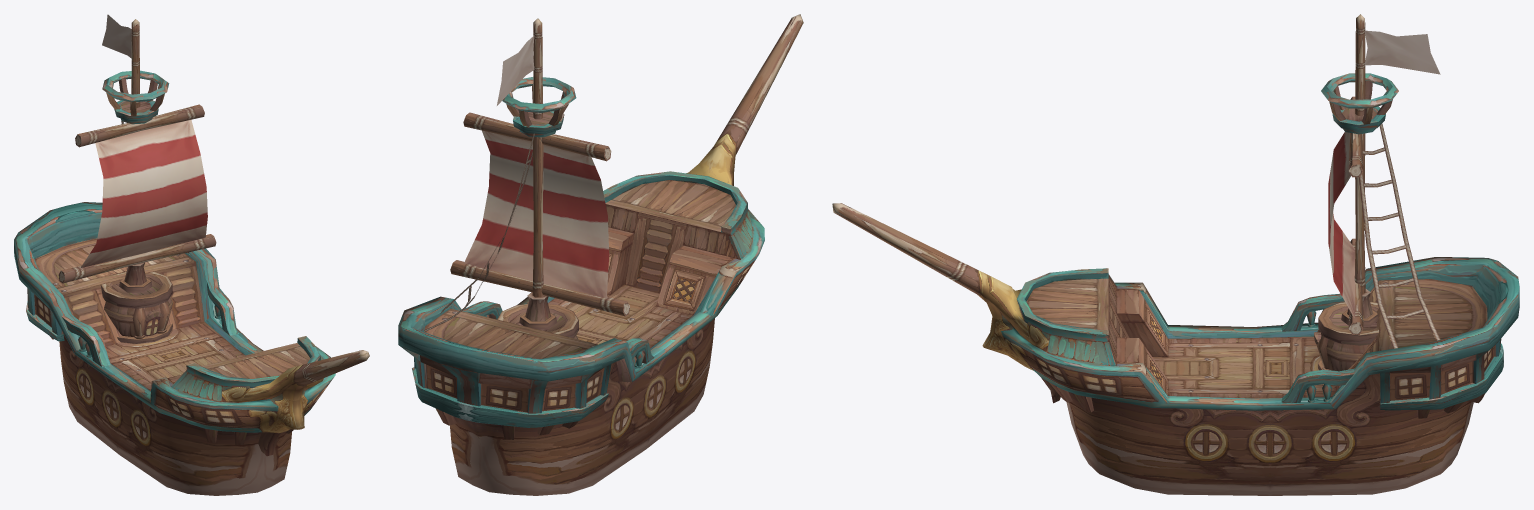
File: Map_05_boat01.FBX
3 views of the same model, side by side, from view 1: azimuth 30°, elevation 25°; view 2: azimuth 150°, elevation 25°; view 3: azimuth 270°, elevation 25° (orthographic). The views are drawn at different scales.
Parts seen in each view (by area): view 1: Map_05_boat01; view 2: Map_05_boat01; view 3: Map_05_boat01.
Part boxes in pixels (<box>): Map_05_boat01: <box>14,14,369,495</box>; Map_05_boat01: <box>398,14,803,495</box>; Map_05_boat01: <box>832,14,1519,495</box>.
Bounding box in the file's own units: 598 × 1858 × 1344.
